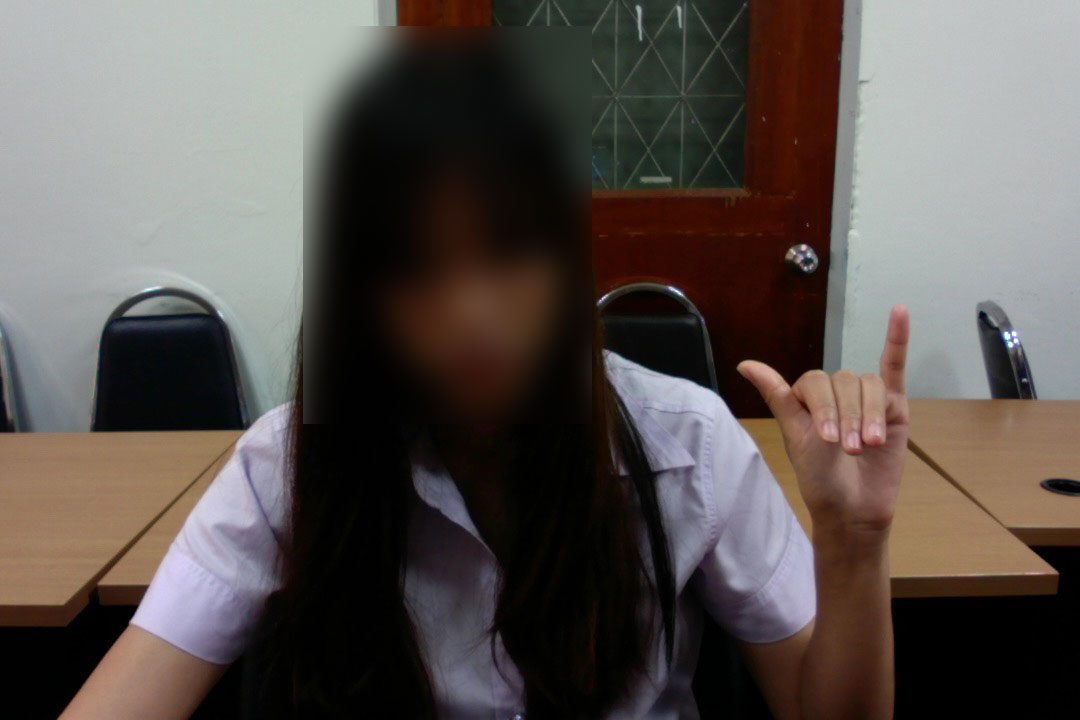yor: (731, 297, 918, 537)
